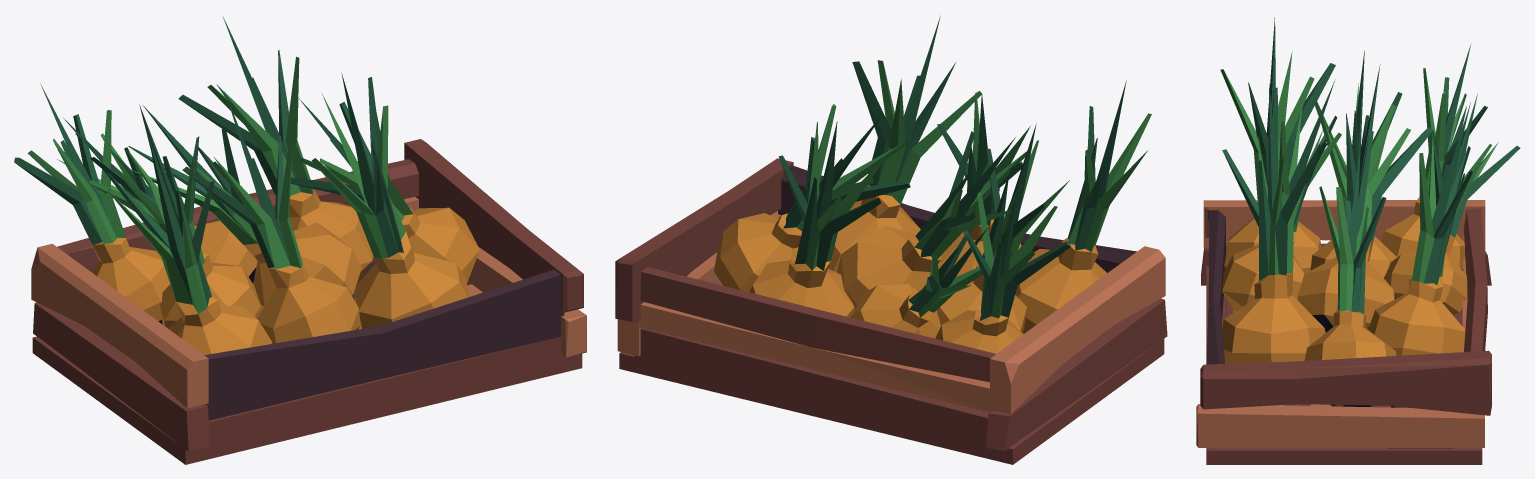
Rendered from Box_Onions.fbx.
3 renders of one model, left to right at view 1: azimuth 30°, elevation 25°; view 2: azimuth 150°, elevation 25°; view 3: azimuth 270°, elevation 25°, orthographic. The views are drawn at different scales.
Parts seen in each view (by area): view 1: Box_Ornions, Onion_Box_07, Onion_Box_04, Onion_Box_01, Onion_Box_03, Onion_Box_09, Onion_Box_05, Onion_Box_08, Onion_Box_02, Onion_Box_06; view 2: Box_Ornions, Onion_Box_09, Onion_Box_05, Onion_Box_07, Onion_Box_01, Onion_Box_08, Onion_Box_03, Onion_Box_06, Onion_Box_02, Onion_Box_04; view 3: Box_Ornions, Onion_Box_07, Onion_Box_09, Onion_Box_05, Onion_Box_08, Onion_Box_01, Onion_Box_04, Onion_Box_03, Onion_Box_06, Onion_Box_02.
Boxes of the visible parts, x1,y1,x2,y2 form: Box_Ornions: [31, 139, 586, 464]; Onion_Box_07: [311, 73, 469, 328]; Onion_Box_04: [182, 98, 360, 343]; Onion_Box_01: [104, 133, 272, 354]; Onion_Box_03: [14, 83, 170, 324]; Onion_Box_09: [178, 16, 373, 285]; Onion_Box_05: [127, 105, 361, 311]; Onion_Box_08: [290, 97, 479, 283]; Onion_Box_02: [90, 104, 261, 328]; Onion_Box_06: [57, 118, 257, 282]; Box_Ornions: [615, 158, 1167, 464]; Onion_Box_09: [749, 121, 884, 317]; Onion_Box_05: [837, 131, 1026, 309]; Onion_Box_07: [828, 16, 981, 272]; Onion_Box_01: [1015, 80, 1151, 333]; Onion_Box_08: [714, 104, 910, 291]; Onion_Box_03: [935, 189, 1070, 353]; Onion_Box_06: [850, 220, 1012, 338]; Onion_Box_02: [936, 123, 1069, 332]; Onion_Box_04: [937, 92, 1030, 275]; Box_Ornions: [1196, 200, 1491, 464]; Onion_Box_07: [1222, 83, 1325, 363]; Onion_Box_09: [1367, 102, 1480, 355]; Onion_Box_05: [1297, 64, 1432, 332]; Onion_Box_08: [1304, 146, 1396, 406]; Onion_Box_01: [1220, 17, 1335, 273]; Onion_Box_04: [1222, 79, 1341, 311]; Onion_Box_03: [1380, 43, 1487, 271]; Onion_Box_06: [1384, 94, 1520, 316]; Onion_Box_02: [1310, 50, 1402, 278].
Bounding box in the file's own units: 94.27 × 66.5 × 67.27.
